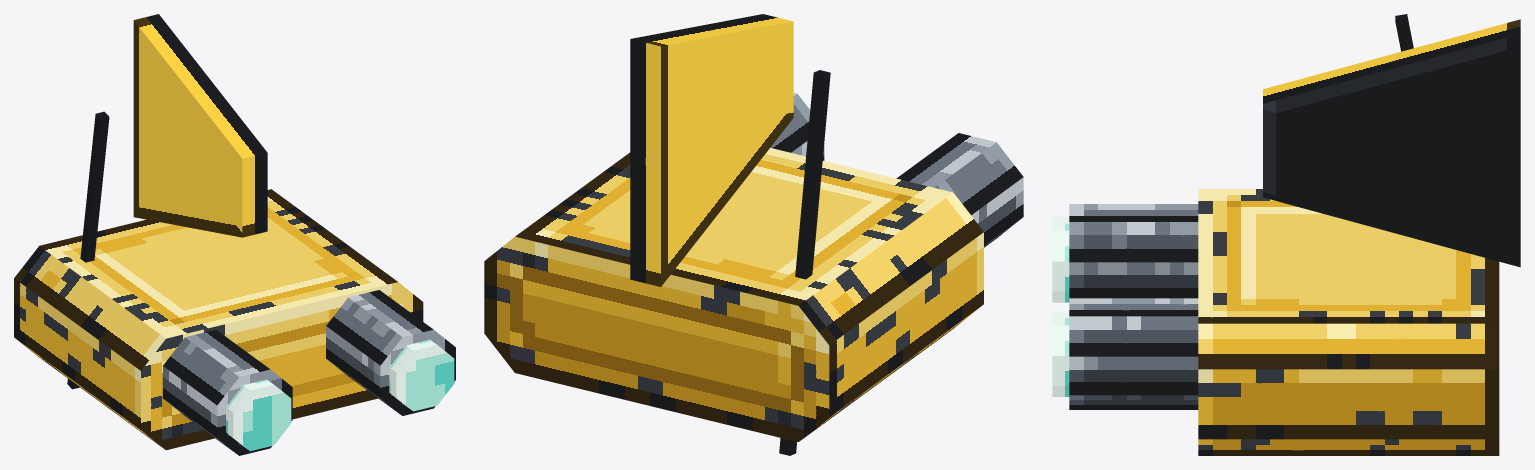
The model's file is cy_sensor.glb.
The picture shows the model from 3 angles, left to right: view 1: azimuth 30°, elevation 25°; view 2: azimuth 150°, elevation 25°; view 3: azimuth 270°, elevation 25°; orthographic projection. The views are drawn at different scales.
Parts seen in each view (by area): view 1: pod, fin, lensL, lensR, glassL, glassR, aerial; view 2: pod, fin, lensR, aerial, lensL; view 3: pod, fin, lensL, lensR, glassR, glassL, aerial.
Part boxes in pixels (x1,y1,x2,y2): pod: [14, 189, 423, 450]; fin: [133, 14, 267, 237]; lensL: [326, 290, 455, 415]; lensR: [163, 330, 292, 455]; glassL: [389, 339, 454, 411]; glassR: [226, 379, 291, 451]; aerial: [67, 111, 109, 389]; pod: [484, 148, 983, 441]; fin: [630, 14, 793, 286]; lensR: [896, 133, 1023, 247]; aerial: [779, 70, 830, 455]; lensL: [770, 93, 824, 160]; pod: [1198, 189, 1499, 455]; fin: [1263, 19, 1520, 267]; lensL: [1069, 298, 1198, 409]; lensR: [1069, 204, 1198, 298]; glassR: [1052, 216, 1069, 302]; glassL: [1052, 311, 1069, 396]; aerial: [1395, 14, 1413, 51].
Size of the model in its own units: 9 by 10.06 by 10.9.
1 material, 1 textured.
